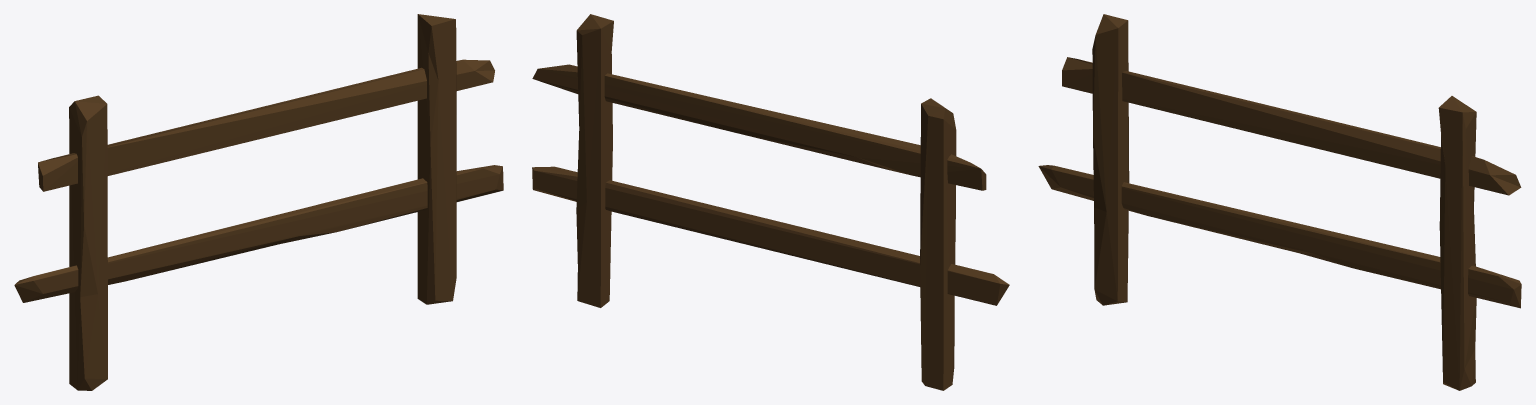
File: SM_fence_05.fbx
3 views of the same model, side by side, from view 1: azimuth 30°, elevation 25°; view 2: azimuth 150°, elevation 25°; view 3: azimuth 330°, elevation 25° (orthographic).
Parts seen in each view (by area): view 1: Object32406; view 2: Object32406; view 3: Object32406.
Part boxes in pixels (x1,y1,x2,y2): Object32406: (14, 14, 503, 390); Object32406: (532, 14, 1009, 390); Object32406: (1038, 14, 1521, 390).
Size of the model in its own units: 78.18 by 43.7 by 4.
